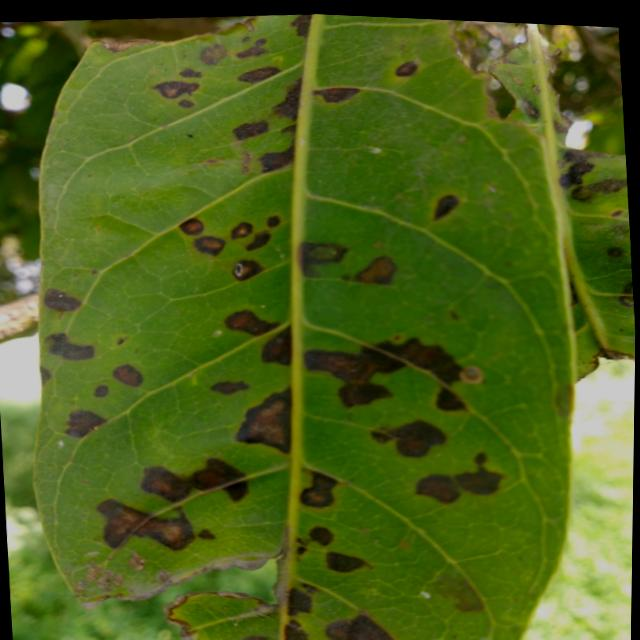Anthracnose: (303, 331, 464, 412), (413, 449, 508, 521), (93, 496, 199, 559), (376, 321, 468, 388), (305, 348, 404, 408), (141, 459, 248, 502), (371, 414, 449, 467), (188, 452, 256, 506), (430, 564, 491, 622), (237, 389, 291, 453), (302, 345, 377, 386), (137, 461, 195, 507), (223, 304, 281, 342), (42, 328, 98, 367), (414, 466, 465, 508), (225, 306, 280, 339), (569, 174, 629, 204), (299, 242, 349, 277), (337, 378, 393, 409), (558, 149, 597, 193), (272, 74, 308, 121), (326, 615, 393, 639), (261, 323, 296, 366), (257, 142, 301, 176), (65, 407, 108, 441), (41, 285, 83, 319), (301, 471, 338, 509), (324, 549, 373, 577), (427, 189, 462, 225), (111, 358, 147, 392), (235, 35, 272, 68), (355, 256, 397, 284), (229, 253, 265, 285), (236, 64, 281, 86), (192, 232, 227, 258), (245, 226, 274, 257), (231, 119, 270, 141), (306, 521, 336, 549), (315, 86, 361, 104), (392, 56, 422, 83), (154, 81, 199, 99), (228, 218, 257, 244), (516, 96, 543, 123), (288, 587, 312, 616), (436, 388, 466, 411), (179, 216, 205, 237), (200, 45, 227, 65), (126, 550, 149, 573), (210, 381, 249, 394), (285, 619, 308, 639), (291, 14, 311, 37), (460, 365, 484, 384), (606, 242, 627, 261), (619, 282, 634, 308), (92, 382, 111, 401), (179, 66, 203, 79), (198, 527, 216, 542), (39, 366, 52, 386), (267, 214, 282, 228), (179, 98, 195, 108), (611, 211, 623, 217), (244, 636, 268, 639)
